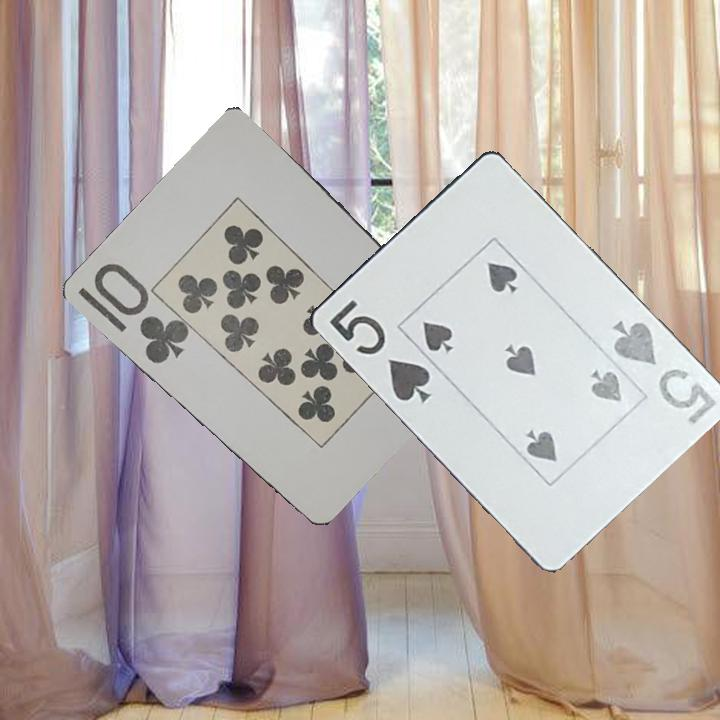5s: (607, 316, 719, 427), (325, 295, 433, 406)
Tc: (75, 258, 193, 367)
